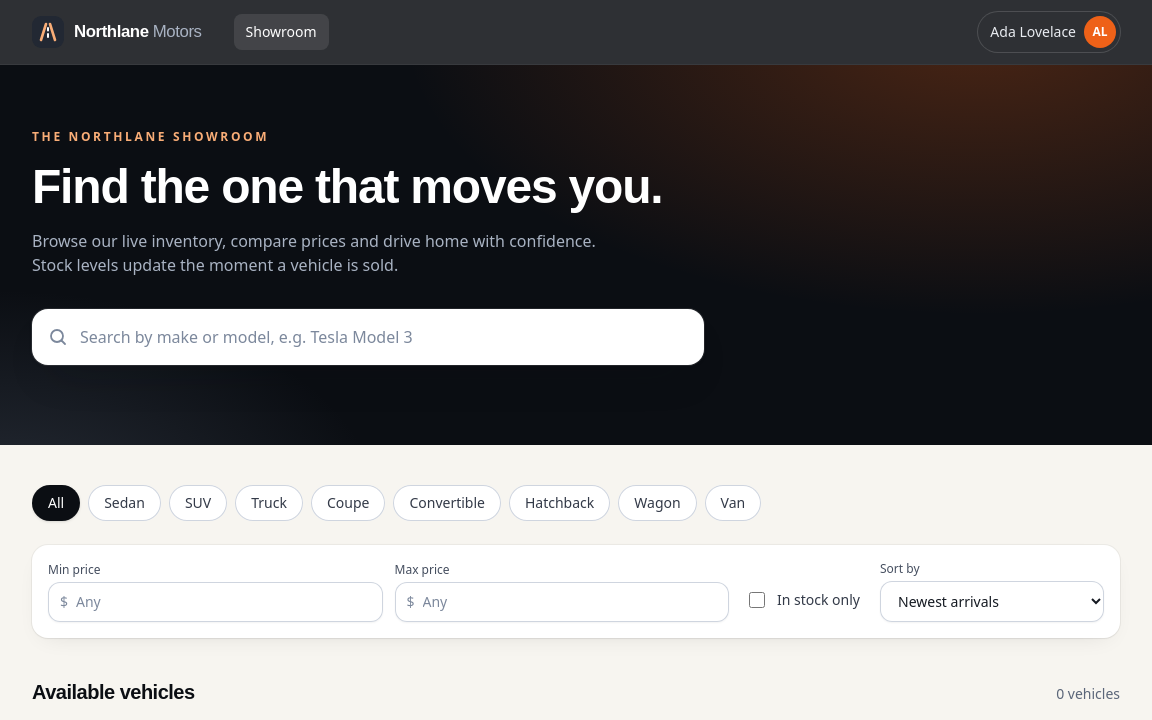
it: navigation and access control › signs the user out
The width and height of the screenshot is (1152, 720).
Click the button with aria-label "account menu for ada lovelace": {"x": 1049, "y": 32} [978, 12, 1120, 52]
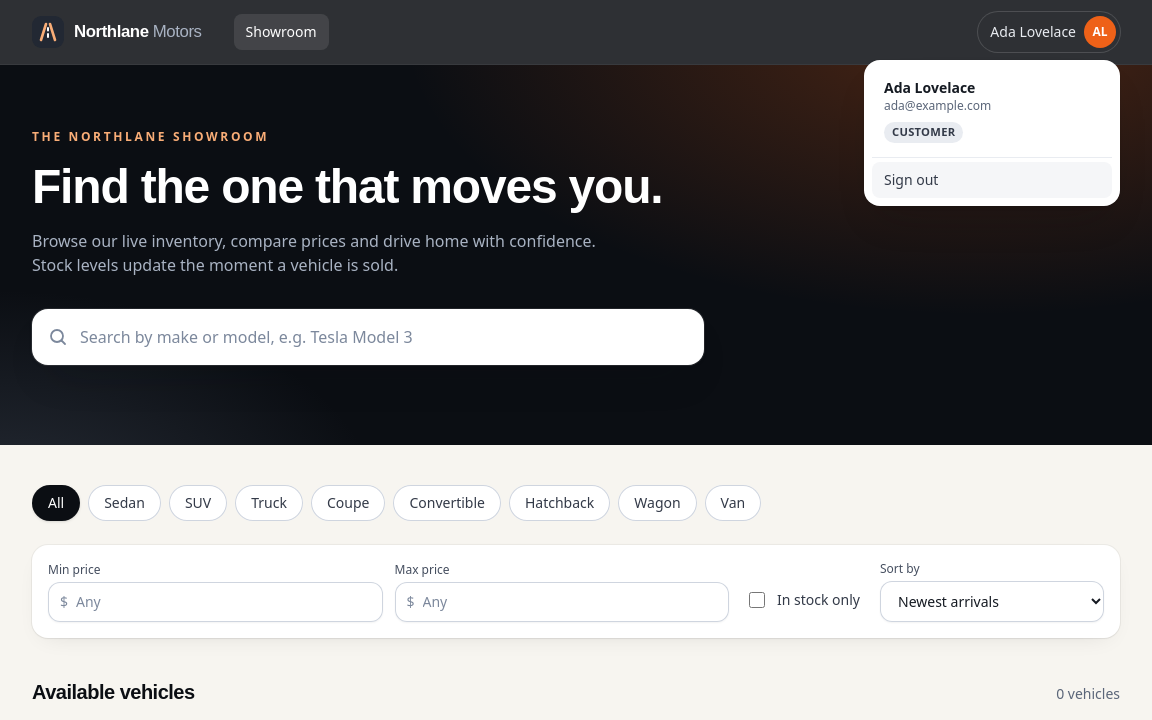
Click the menu item "Sign out": {"x": 992, "y": 180} [872, 162, 1112, 198]
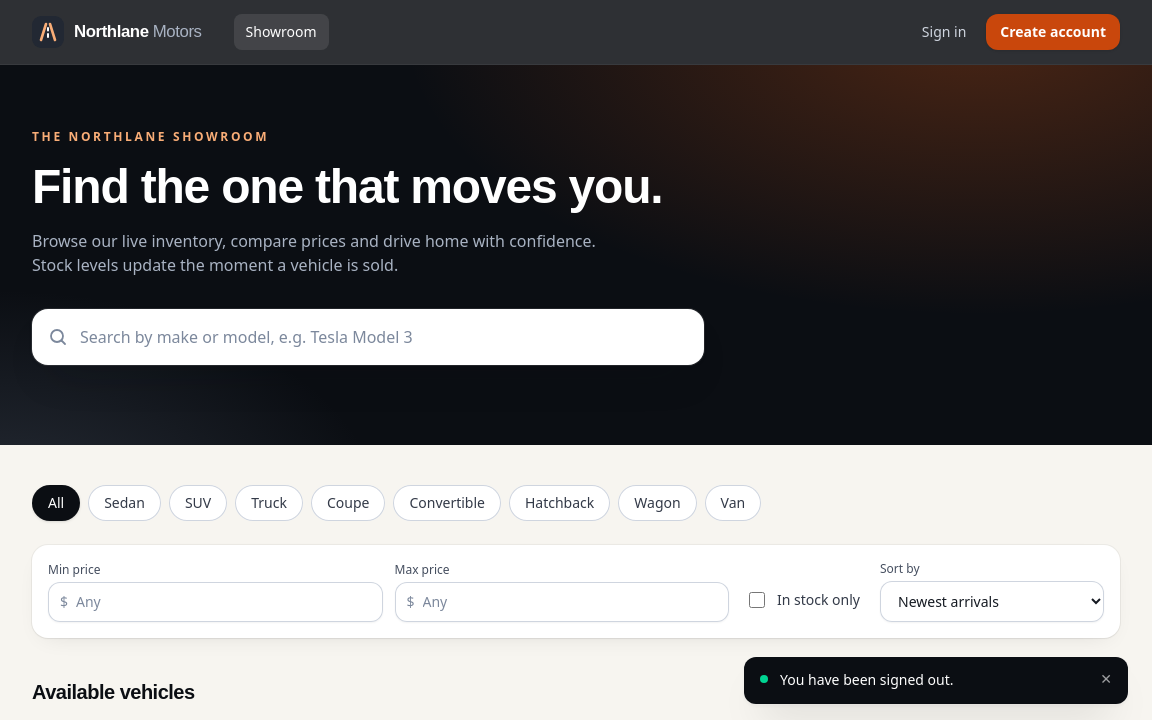
Expected: the link "Sign in" is shown, [922, 22, 966, 41]
